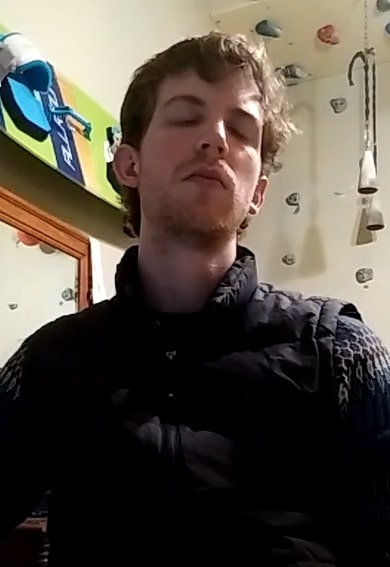Sleeping: (153, 97, 268, 149)
